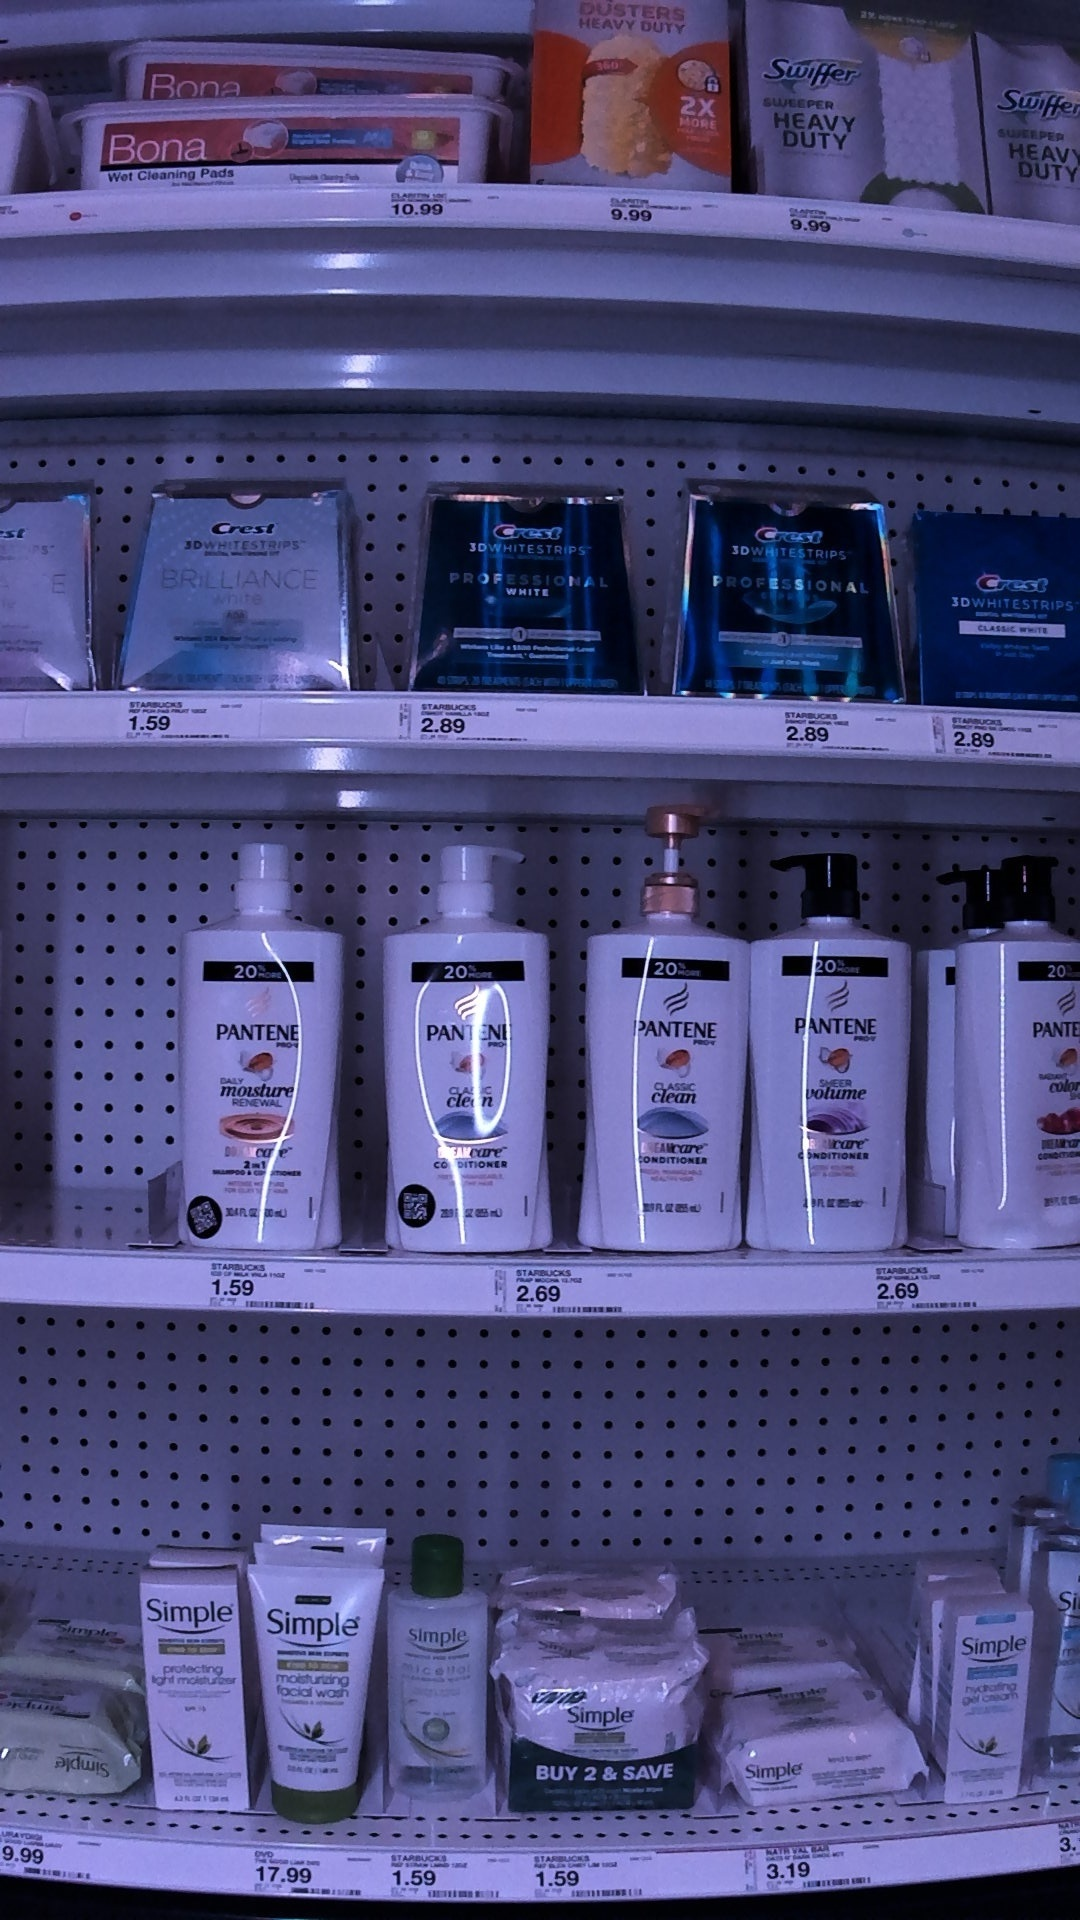ptag: (729, 1844, 889, 1902), (931, 709, 1071, 775), (491, 1269, 632, 1327), (396, 694, 535, 752), (520, 1846, 659, 1904), (249, 1837, 351, 1911), (1, 1824, 113, 1887), (866, 1262, 1002, 1313), (202, 1257, 331, 1309), (120, 694, 243, 749), (775, 709, 886, 764), (384, 1853, 491, 1905), (786, 200, 878, 251), (604, 191, 694, 243), (384, 185, 469, 229)
